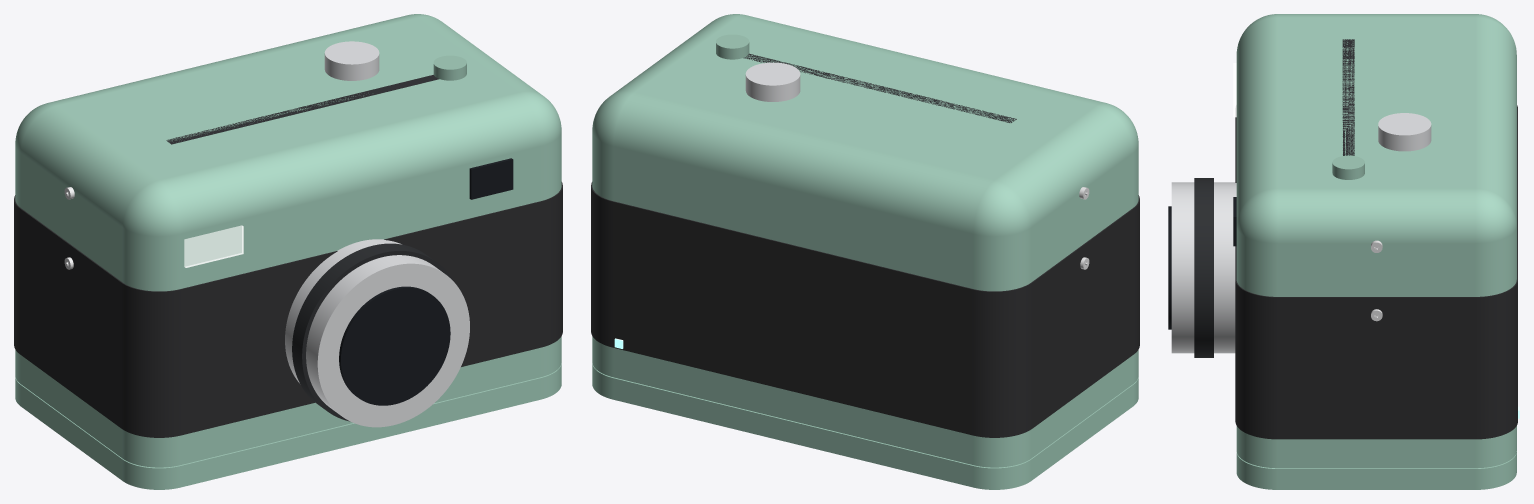
3 renders of one model, left to right at view 1: azimuth 30°, elevation 25°; view 2: azimuth 150°, elevation 25°; view 3: azimuth 270°, elevation 25°, orthographic. The views are drawn at different scales.
Parts seen in each view (by area): view 1: body.1, rubber.1, metal.1, body.2, glass.1, coat.1, metal.2, diffuser.1, coat.2, glass.3, button.1; view 2: body.1, rubber.1, body.2, metal.2, coat.2, button.1; view 3: body.1, rubber.1, metal.1, body.2, coat.1, metal.2, coat.2, button.1, glass.1.
Boxes of the visible parts, x1,y1,x2,y2 form: body.1: (15, 14, 561, 467); rubber.1: (14, 182, 562, 437); metal.1: (285, 239, 469, 427); body.2: (15, 363, 561, 489); glass.1: (339, 286, 450, 405); coat.1: (292, 243, 452, 421); metal.2: (324, 41, 379, 80); diffuser.1: (184, 225, 243, 267); coat.2: (166, 75, 439, 144); glass.3: (469, 158, 513, 199); button.1: (433, 55, 466, 80); body.1: (592, 14, 1138, 467); rubber.1: (591, 182, 1139, 437); body.2: (592, 363, 1138, 489); metal.2: (745, 62, 800, 101); coat.2: (743, 53, 1016, 122); button.1: (716, 34, 749, 59); body.1: (1236, 14, 1516, 468); rubber.1: (1235, 105, 1517, 439); metal.1: (1171, 182, 1236, 353); body.2: (1236, 451, 1516, 489); coat.1: (1194, 178, 1213, 357); metal.2: (1378, 113, 1431, 151); coat.2: (1342, 39, 1354, 155); button.1: (1332, 155, 1364, 179); glass.1: (1168, 206, 1171, 329).
Size of the model in its own units: 0.1682 by 0.1122 by 0.1192.
